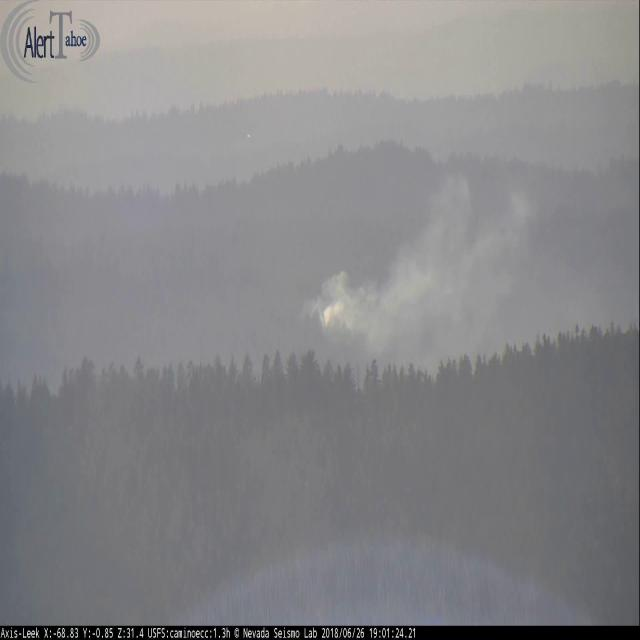smoke: (299, 168, 530, 353), (501, 266, 640, 348)
